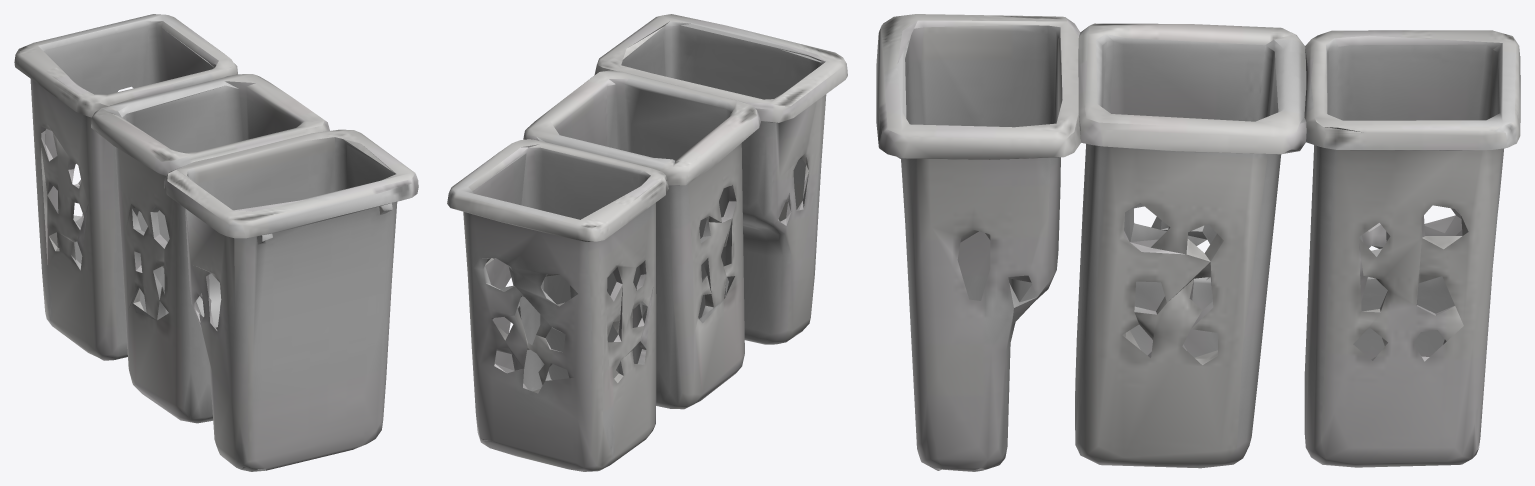
File: bins.glb
3 views of the same model, side by side, from view 1: azimuth 30°, elevation 25°; view 2: azimuth 150°, elevation 25°; view 3: azimuth 270°, elevation 25° (orthographic). The views are drawn at different scales.
Parts seen in each view (by area): view 1: bins; view 2: bins; view 3: bins.
Part boxes in pixels (<box>): bins: <box>14,14,418,471</box>; bins: <box>447,14,847,471</box>; bins: <box>876,14,1520,471</box>.
Size of the model in its own units: 0.7504 by 1 by 1.61.
1 material, 1 textured.
